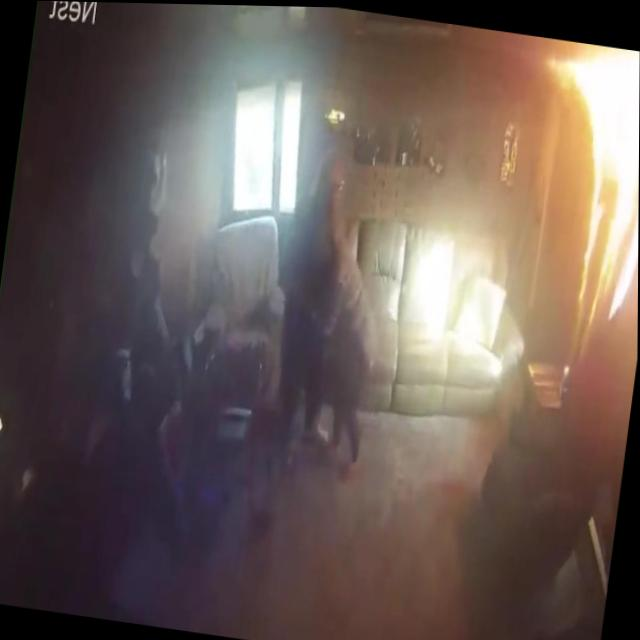fire: (515, 35, 640, 333)
